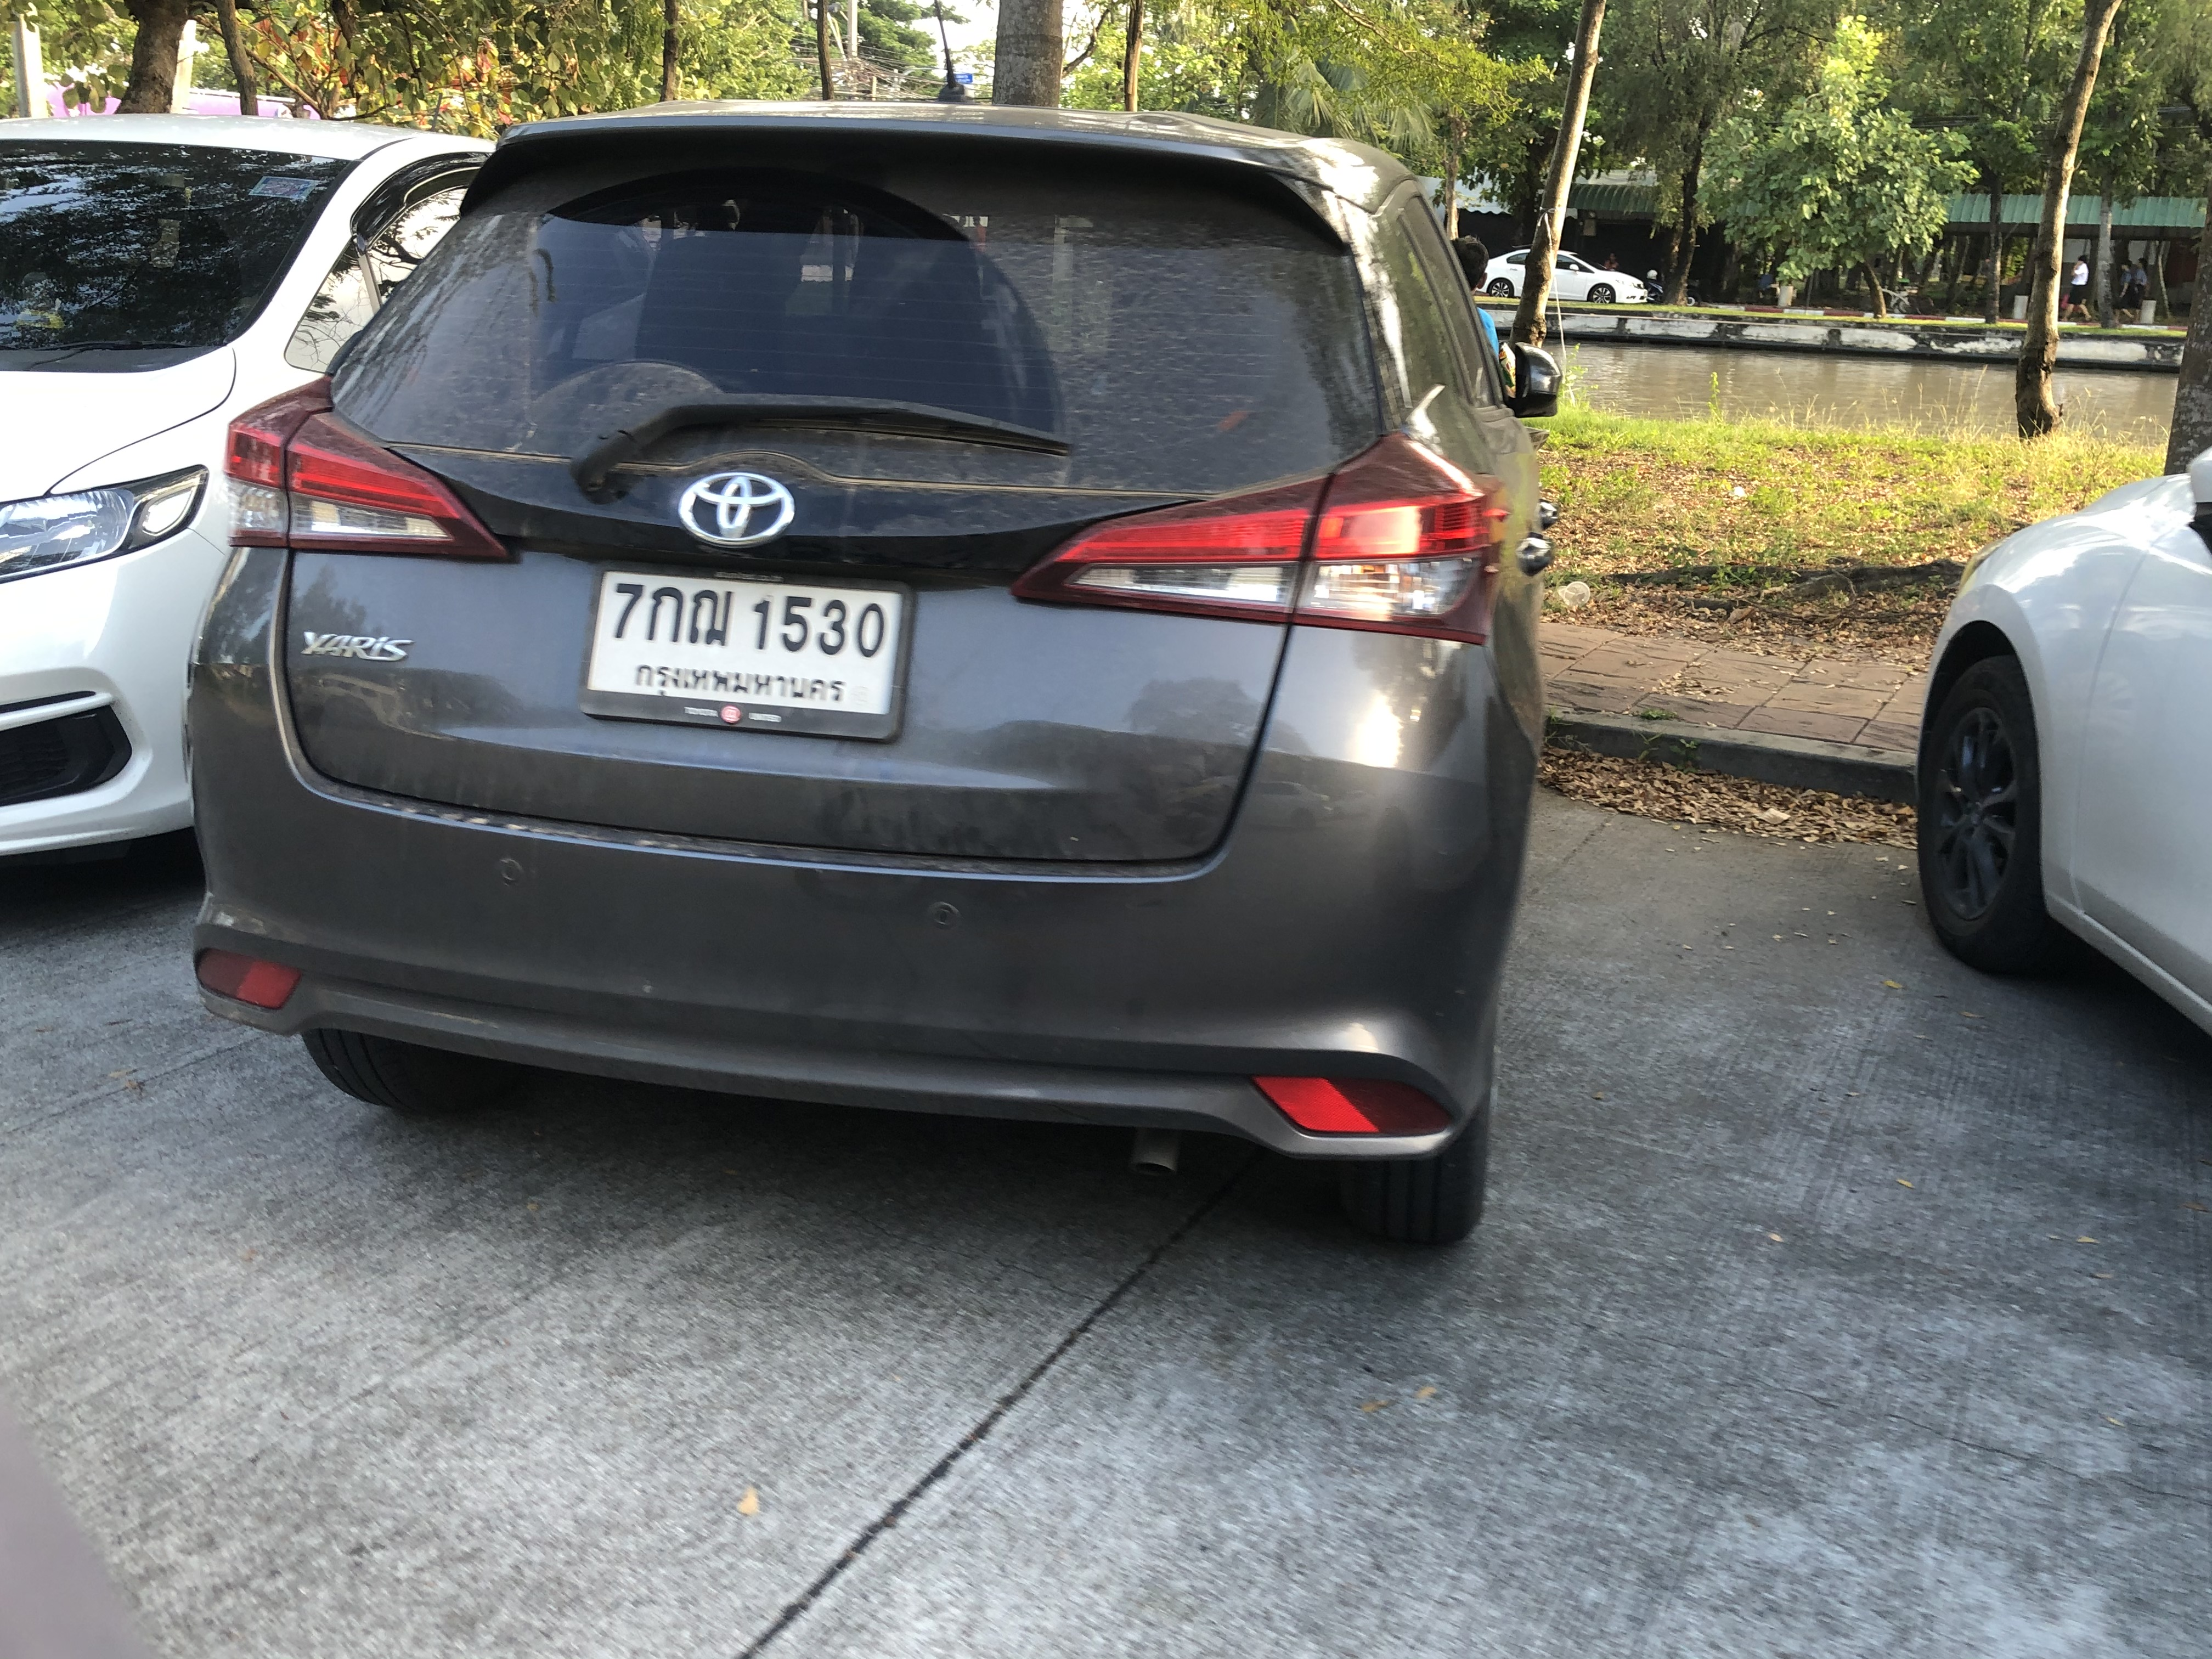in: (592, 577, 895, 713)
out: (575, 559, 914, 742)
